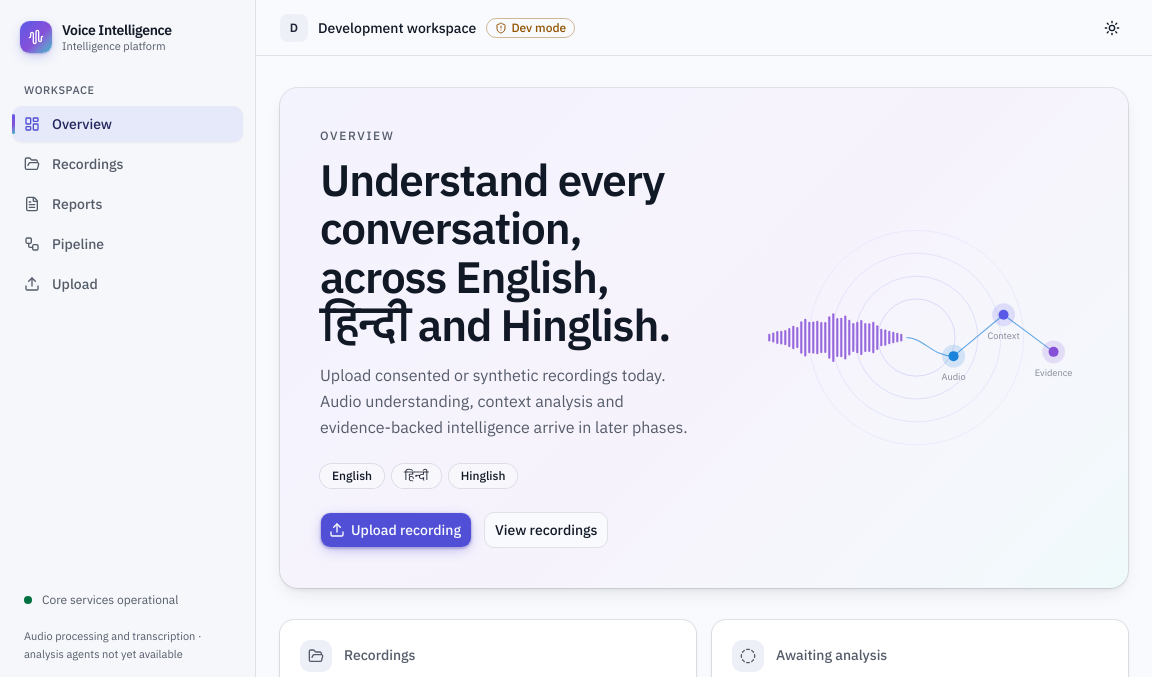
Scenario: App › navigates with the sidebar and marks the current page
Click the link "Recordings".
click(74, 164)  # box [24,155,124,173]
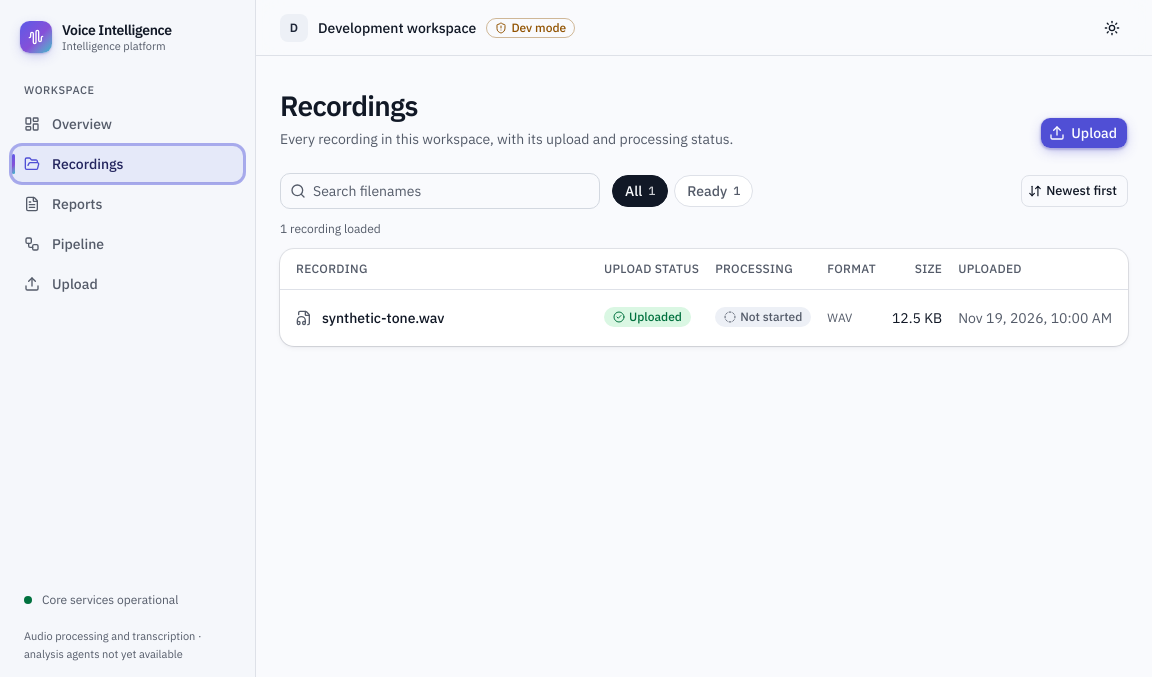
Expected: the heading "Recordings" is shown, [280,87,418,124]
Expected: the link "Recordings" is marked as current, [12,146,243,182]
Expected: the link "Overview" does not have attribute aria-current, [24,115,112,133]
